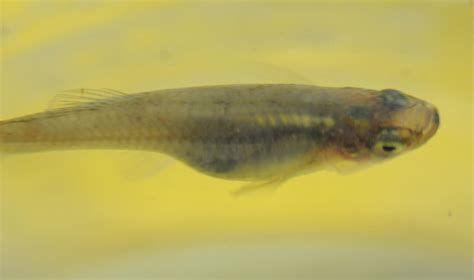Mosquito Fish: (0, 73, 444, 200)
